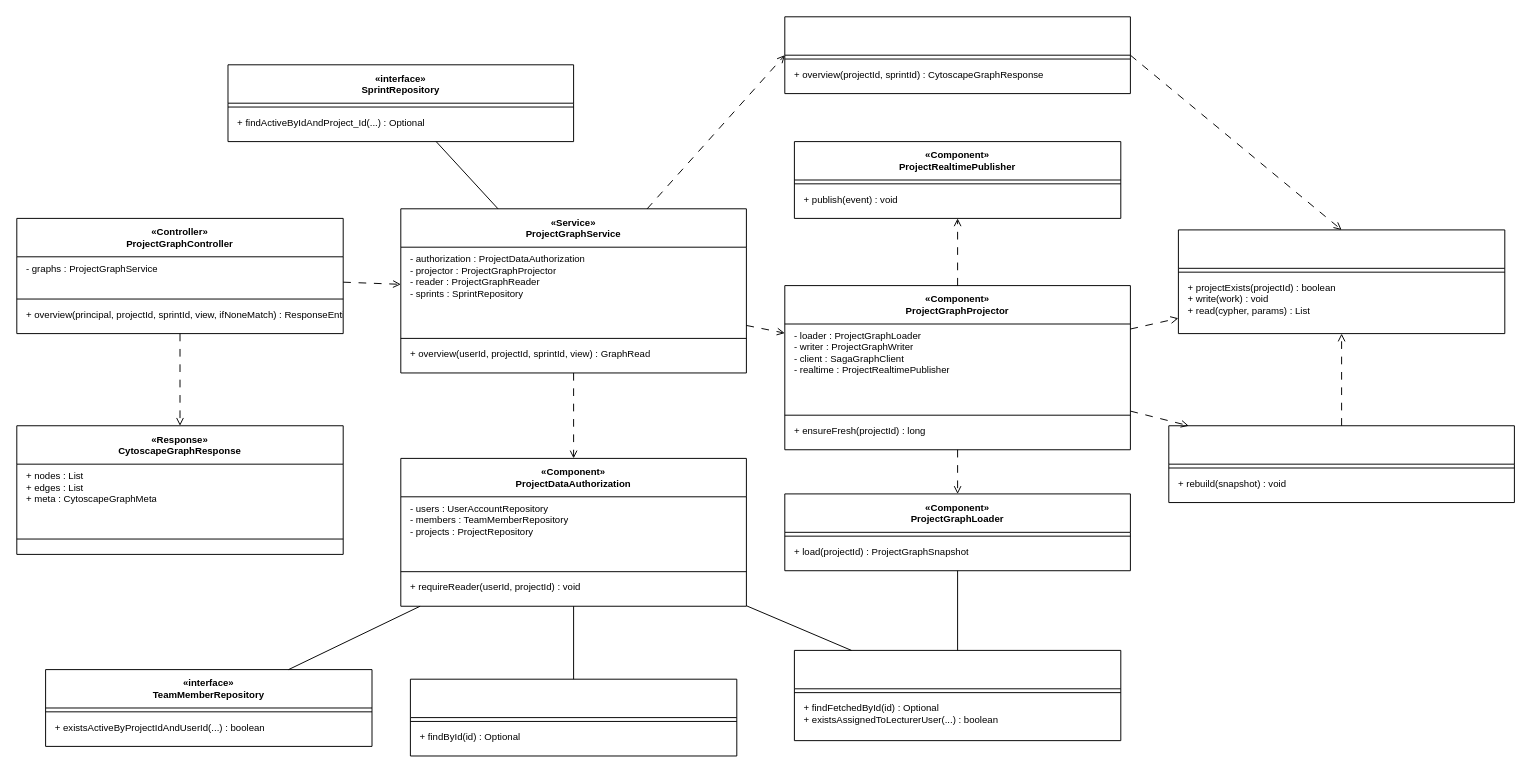
This 1531x776 diagram has some shape labels left out. Here are the shapes that lost their labels. From the top down, the box of each, then its label:
(784, 16, 1130, 94): «Component» ProjectGraphReader
(1177, 229, 1505, 334): «Component» SagaGraphClient
(1168, 425, 1514, 503): «Component» ProjectGraphWriter
(793, 649, 1121, 741): «interface» ProjectRepository
(409, 678, 737, 756): «interface» UserAccountRepository
